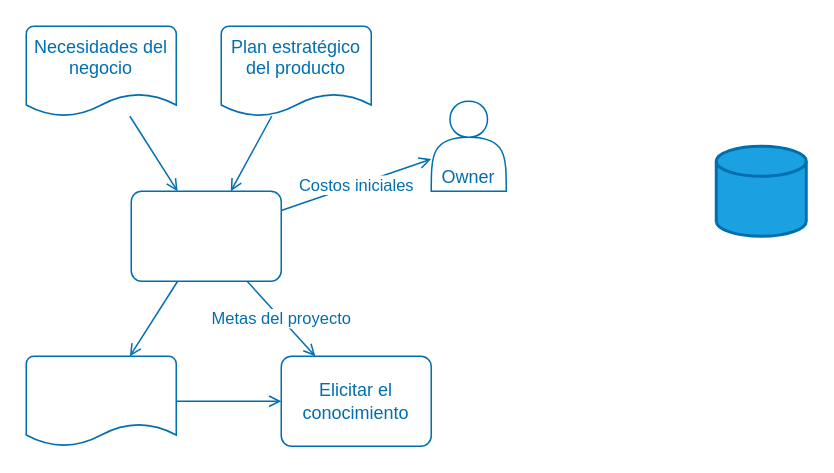
Image size: 834x473. Some labels were removed from this diagram. Each missing label, with the centre of its shape:
Alcance del trabajo: the point at 100,400
Despegue del proyecto: the point at 205,235
